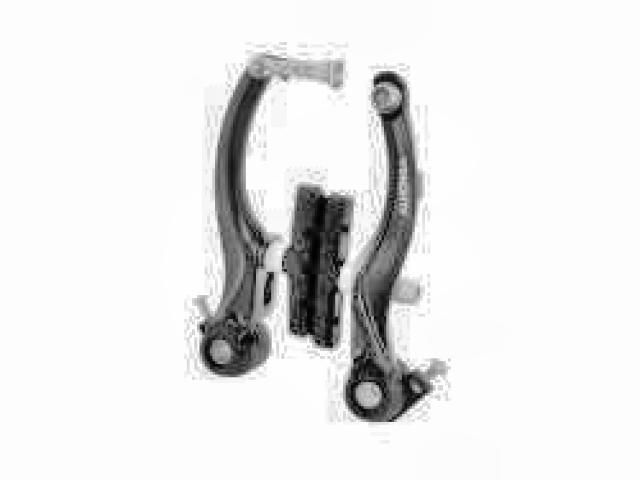rim_brake: (191, 51, 448, 426)
